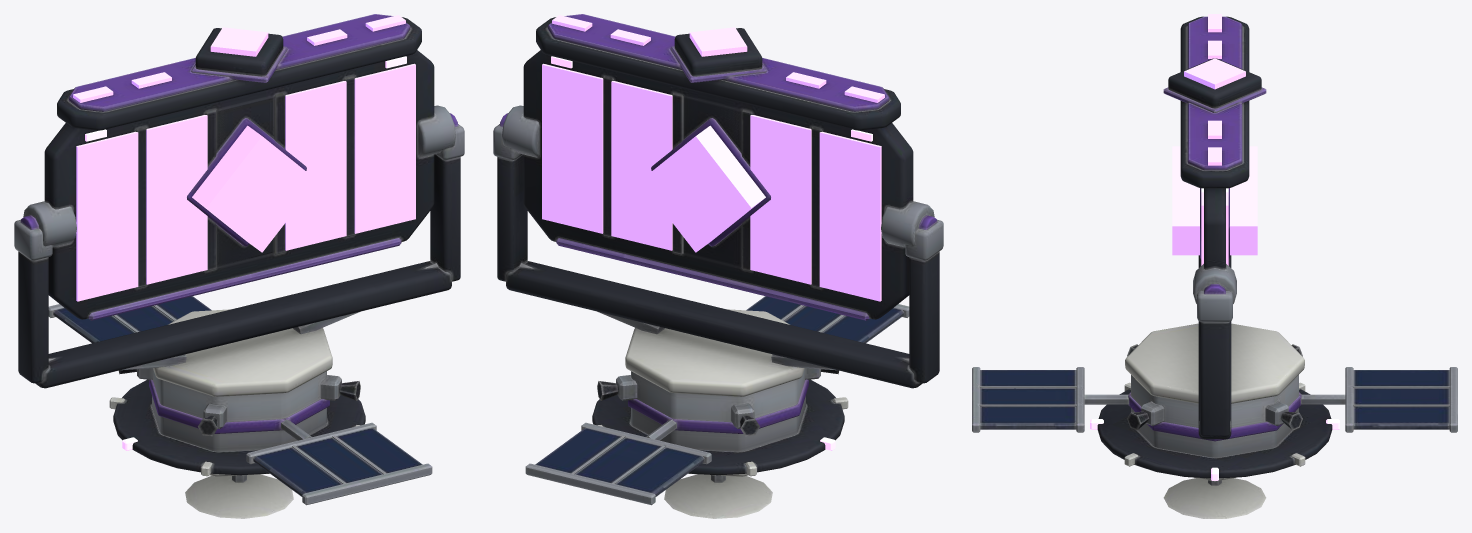
The model's file is sat_splitter.glb.
The picture shows the model from 3 angles, left to right: view 1: azimuth 30°, elevation 25°; view 2: azimuth 150°, elevation 25°; view 3: azimuth 270°, elevation 25°; orthographic projection. The views are drawn at different scales.
Parts seen in each view (by area): view 1: sat_splitter, sat_splitter_glow; view 2: sat_splitter, sat_splitter_glow; view 3: sat_splitter, sat_splitter_glow.
Part boxes in pixels (x1,y1,x2,y2): sat_splitter: (14, 14, 464, 518); sat_splitter_glow: (73, 15, 415, 450); sat_splitter: (493, 14, 943, 518); sat_splitter_glow: (542, 15, 884, 450); sat_splitter: (972, 16, 1457, 518); sat_splitter_glow: (1090, 14, 1339, 480).
Size of the model in its own units: 3.42 by 3.53 by 3.54.
Materials: 3 (1 with a texture image).
